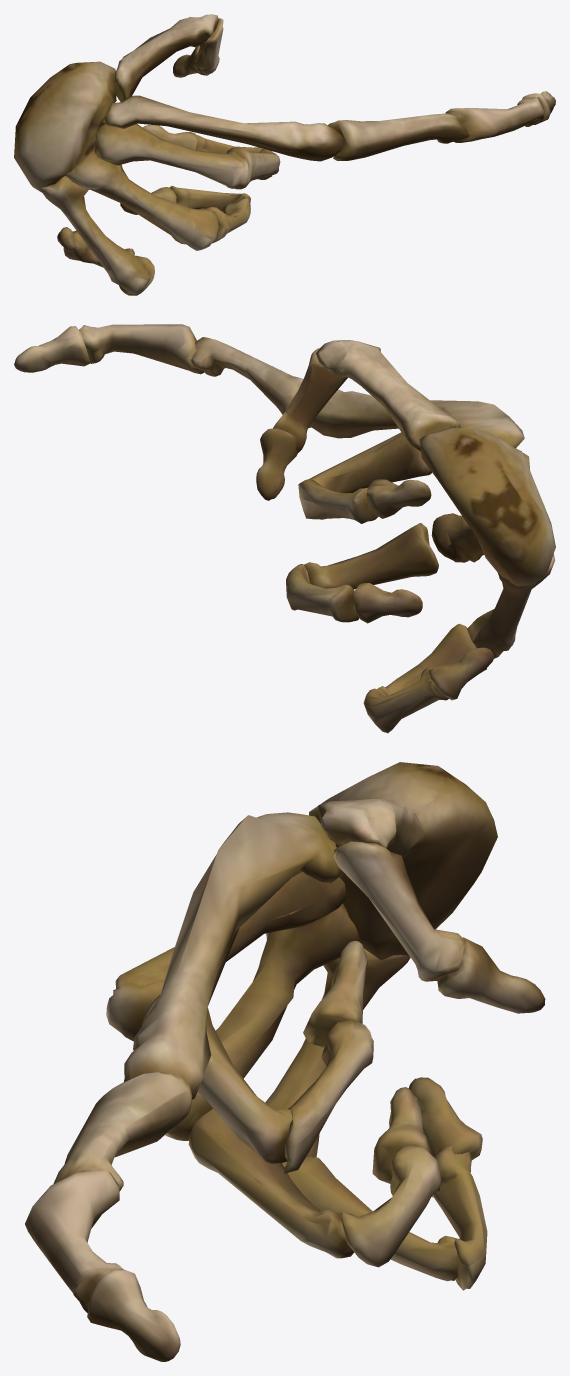
3 views of the same model, one above another, from view 1: azimuth 30°, elevation 25°; view 2: azimuth 150°, elevation 25°; view 3: azimuth 270°, elevation 25° (orthographic). The views are drawn at different scales.
Visible parts, largest first — view 1: node_id30; view 2: node_id30; view 3: node_id30.
Part boxes in pixels (x1=…): node_id30: x1=14, y1=14, x2=555, y2=295; node_id30: x1=14, y1=324, x2=555, y2=733; node_id30: x1=25, y1=762, x2=545, y2=1361.
Bounding box in the file's own units: 0.1646 × 0.0896 × 0.0781.
Materials: 1 (1 with a texture image).
